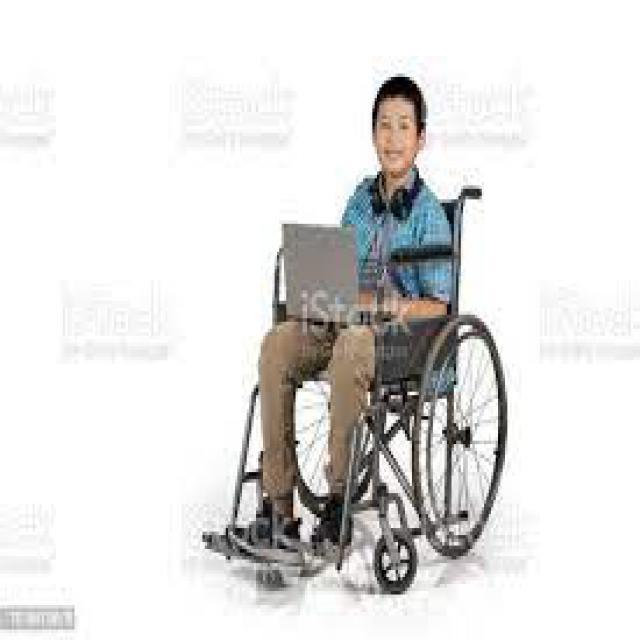wheelchairs: (212, 157, 514, 591)
